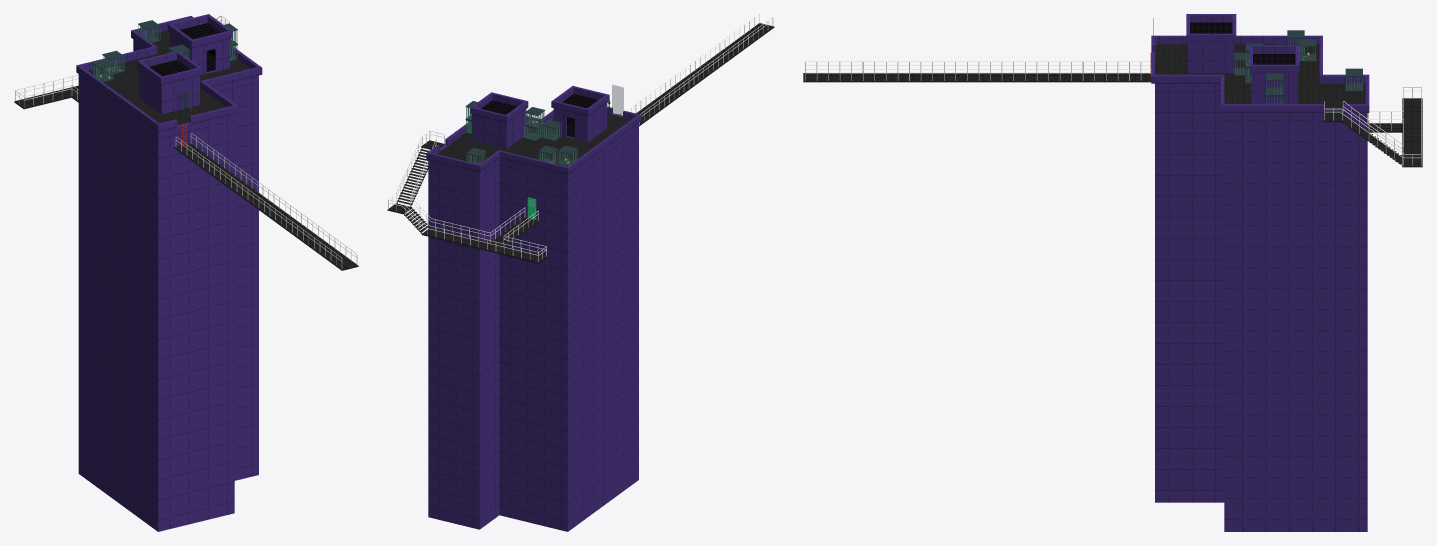
File: house_outside.glb
3 renders of one model, left to right at view 1: azimuth 30°, elevation 25°; view 2: azimuth 150°, elevation 25°; view 3: azimuth 270°, elevation 25°, orthographic. The views are drawn at different scales.
Visible parts, largest first — view 1: outside_wall, roof_rail, platform, roof_floor, rail, cages, house_roofs; view 2: outside_wall, roof_rail, platform, rail, roof_floor, cages, stairs, house_roofs; view 3: outside_wall, roof_rail, platform, roof_floor, rail, cages, house_roofs.
Part boxes in pixels (box(x1,y1,x2,y2)): outside_wall: box(78, 33, 258, 531); roof_rail: box(76, 14, 262, 132); platform: box(14, 85, 358, 270); roof_floor: box(88, 30, 249, 124); rail: box(15, 15, 357, 268); cages: box(91, 20, 237, 82); house_roofs: box(149, 23, 220, 76); outside_wall: box(428, 103, 638, 531); roof_rail: box(426, 86, 641, 174); platform: box(387, 23, 774, 263); rail: box(388, 14, 773, 262); roof_floor: box(437, 114, 630, 164); cages: box(465, 101, 577, 166); stairs: box(397, 148, 429, 233); house_roofs: box(481, 94, 598, 114); outside_wall: box(1155, 42, 1367, 531); roof_rail: box(1151, 14, 1369, 112); platform: box(803, 73, 1422, 167); roof_floor: box(1155, 44, 1365, 110); rail: box(805, 61, 1421, 165); cages: box(1234, 30, 1362, 103); house_roofs: box(1190, 22, 1295, 64).
Size of what is drawn, in the model's own units: 17.72 by 43.7 by 53.47.
Materials: 14 (14 with a texture image).
